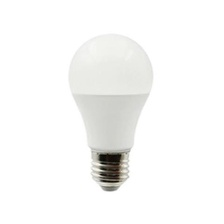light_bulb: (63, 28, 156, 193)
